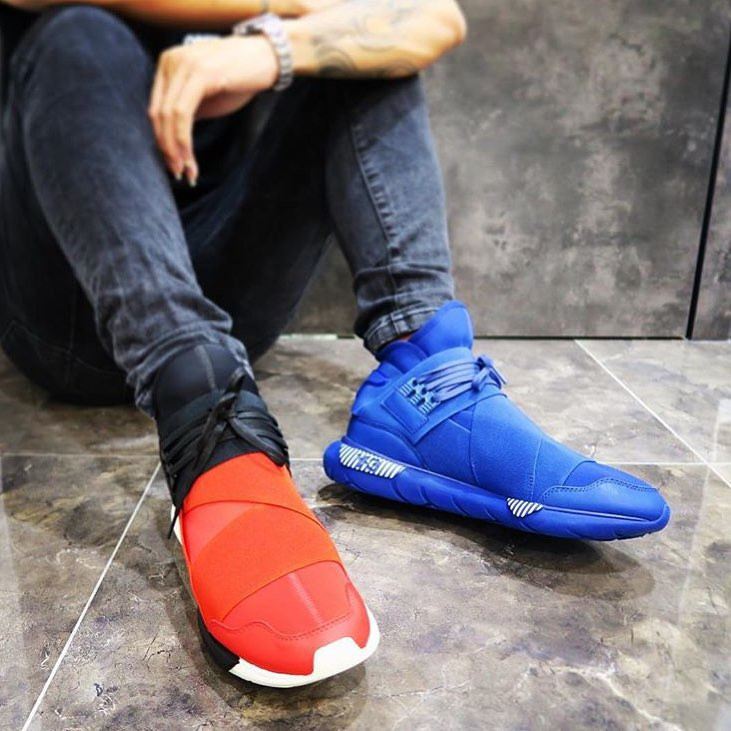sneaker: (115, 319, 414, 717), (308, 282, 691, 582)
